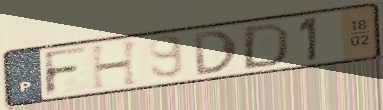1: (295, 15, 320, 64)
9: (147, 34, 187, 83)
D: (240, 21, 292, 72), (191, 28, 241, 78)
F: (41, 44, 91, 98)
H: (88, 37, 143, 92)
